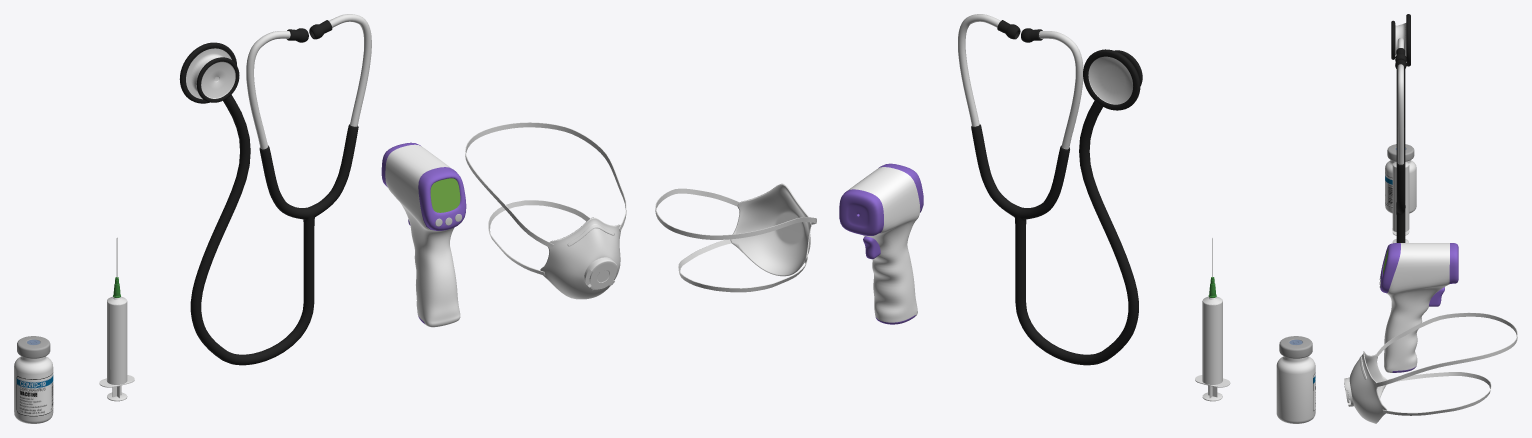
File: Pack - Medical.fbx
3 renders of one model, left to right at view 1: azimuth 30°, elevation 25°; view 2: azimuth 150°, elevation 25°; view 3: azimuth 270°, elevation 25°, orthographic. The views are drawn at different scales.
Parts seen in each view (by area): view 1: Cylinder.009, Cube.003, Plane, Cylinder.010, Cylinder.002, Plane.001, Cylinder.001, Cylinder.005, Cube.002, Cylinder, Plane.002, Cylinder.004; view 2: Cylinder.009, Cube.003, Plane, Cylinder.002, Cylinder.010, Cylinder.004, Plane.001, Plane.002; view 3: Cube.003, Cylinder.009, Plane, Plane.001, Cylinder.002, Plane.002, Cylinder.010, Cylinder.004, Cylinder.005, Cylinder.001, Cylinder, Cube.001.
Boxes of the visible parts, x1,y1,x2,y2 form: Cylinder.009: (190,14,371,365); Cube.003: (381,142,466,327); Plane: (540,217,620,299); Cylinder.010: (179,42,239,103); Cylinder.002: (14,336,53,423); Plane.001: (465,122,626,248); Cylinder.001: (16,372,53,416); Cylinder.005: (110,302,127,370); Cube.002: (430,178,460,212); Cylinder: (584,257,616,290); Plane.002: (488,200,589,275); Cylinder.004: (99,296,134,387); Cylinder.009: (958,14,1138,365); Cube.003: (839,163,923,324); Plane: (730,183,811,276); Cylinder.002: (1276,336,1315,423); Cylinder.010: (1083,49,1142,110); Cylinder.004: (1195,296,1230,387); Plane.001: (655,188,816,239); Plane.002: (678,239,807,292); Cube.003: (1380,243,1458,372); Cylinder.009: (1395,38,1406,242); Plane: (1349,351,1386,423); Plane.001: (1373,312,1517,387); Cylinder.002: (1385,144,1416,213); Plane.002: (1382,372,1491,415); Cylinder.010: (1391,14,1410,66); Cylinder.004: (1392,161,1409,235); Cylinder.005: (1392,166,1396,220); Cylinder.001: (1385,173,1392,207); Cylinder: (1344,377,1353,406); Cube.001: (1429,287,1444,306).
Size of the model in its own units: 93.75 by 47.71 by 28.41.
